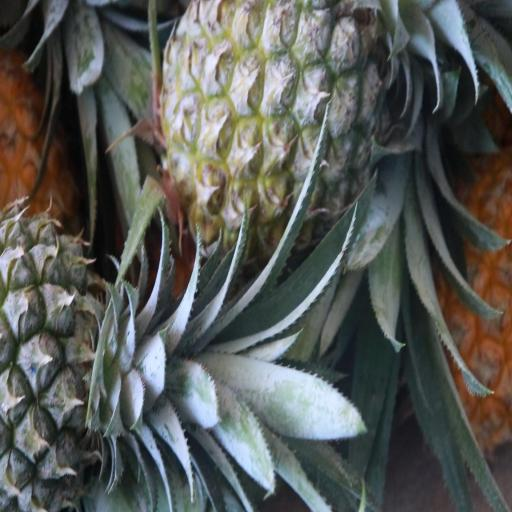------------------------------: (165, 0, 390, 261)
